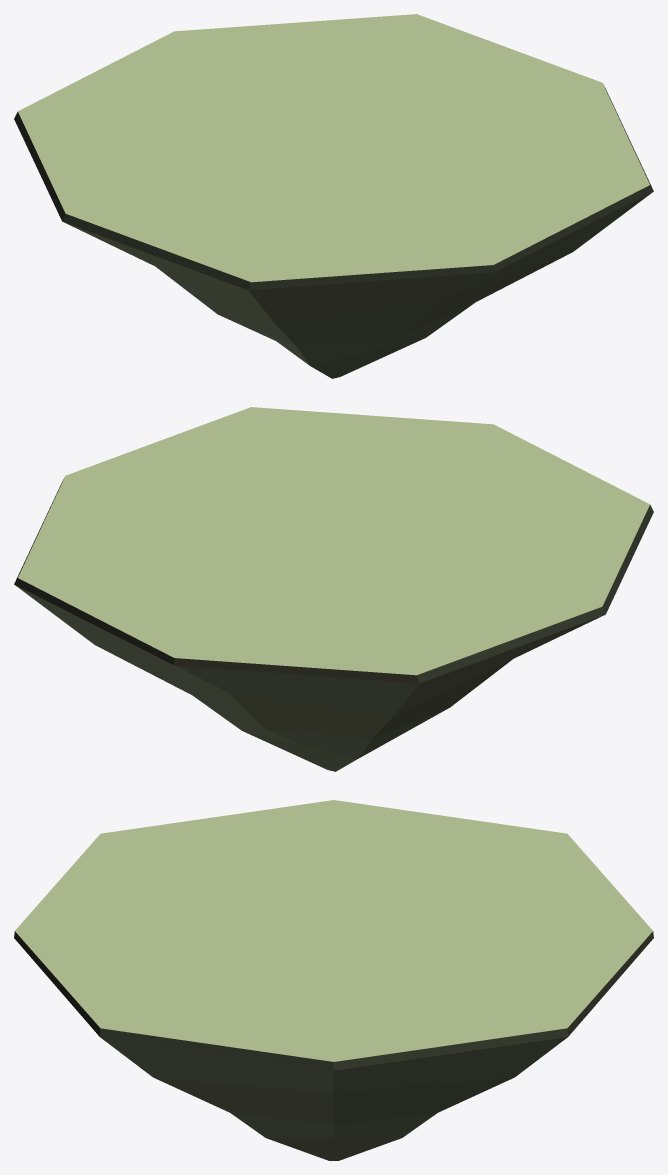
Rendered from SmallGrassLand.glb.
The picture shows the model from 3 angles, top to bottom: view 1: azimuth 30°, elevation 25°; view 2: azimuth 150°, elevation 25°; view 3: azimuth 270°, elevation 25°; orthographic projection.
Parts seen in each view (by area): view 1: Cube.001, Cube, Cube.002; view 2: Cube.001, Cube, Cube.002; view 3: Cube.001, Cube, Cube.002.
Part boxes in pixels (<box>): Cube.001: <box>18,14,649,282</box>; Cube: <box>63,192,652,378</box>; Cube.002: <box>14,84,653,290</box>; Cube.001: <box>18,407,649,675</box>; Cube: <box>15,585,604,771</box>; Cube.002: <box>14,477,653,683</box>; Cube.001: <box>15,800,652,1061</box>; Cube: <box>100,1037,567,1160</box>; Cube.002: <box>14,931,653,1070</box>.
Size of the model in its own units: 13.49 by 5.41 by 13.75.
